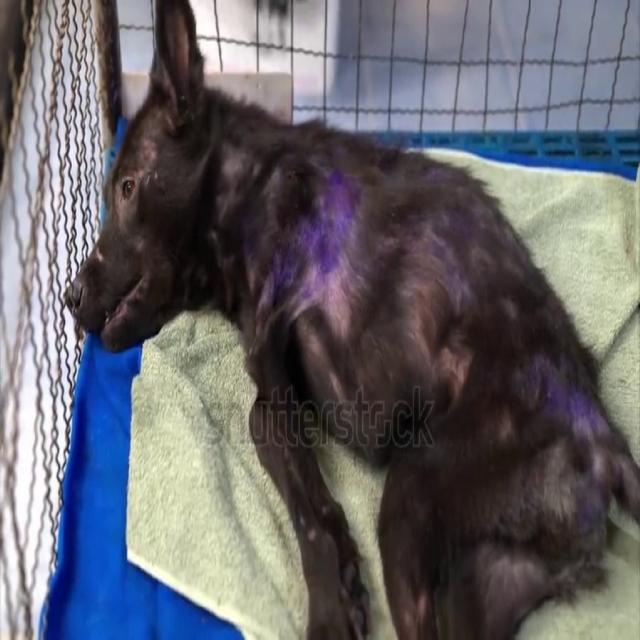injured-animals: (61, 3, 636, 636)
